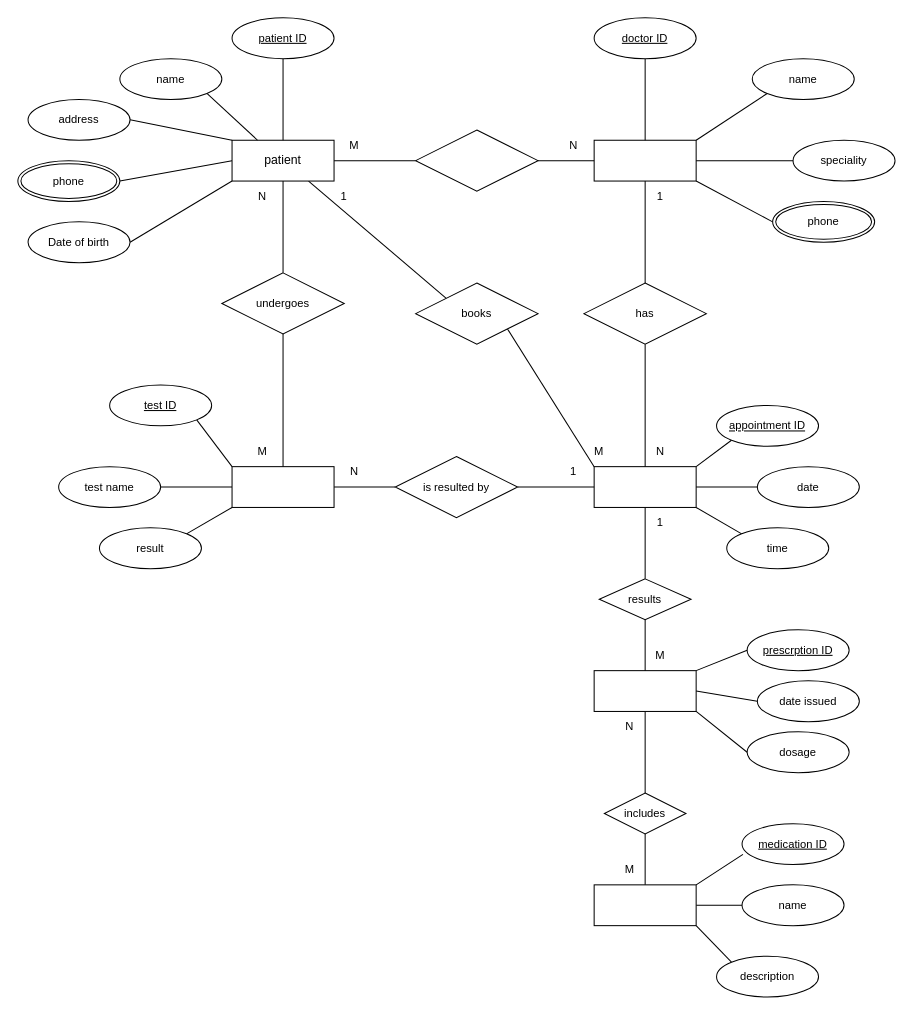
Some shapes in this 913 by 1015 pixel diagram are drawn without their labels. The centre of each missing label's shape, as x and y in pixels:
appointment: (x=644, y=486)
doctor: (x=644, y=160)
is seen by: (x=476, y=160)
medical test: (x=282, y=486)
medication: (x=644, y=905)
prescription: (x=644, y=690)
